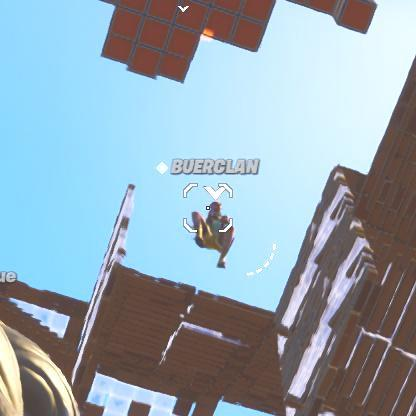person: (199, 190, 241, 263)
